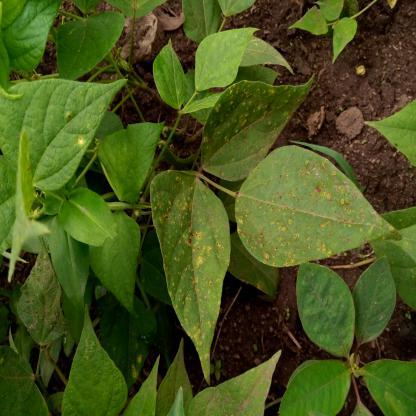Beans_Rust: (233, 147, 402, 266), (154, 169, 229, 380), (198, 73, 319, 182), (0, 81, 112, 194)
